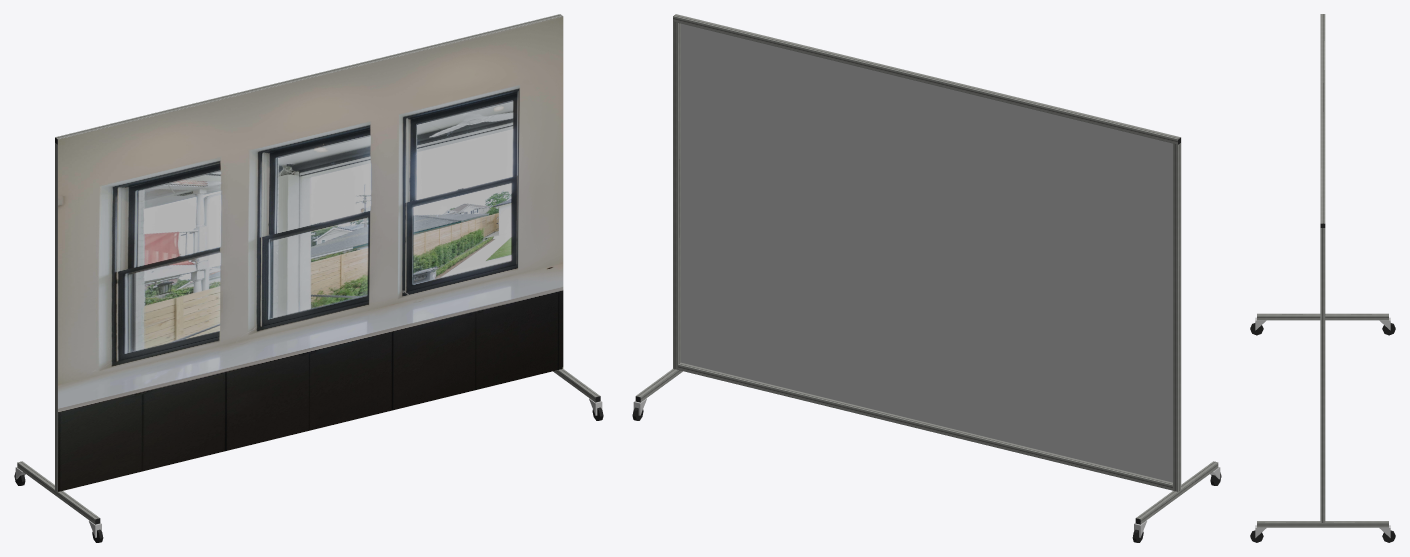
The model's file is textured_panel_3m.dae.
3 renders of one model, left to right at view 1: azimuth 30°, elevation 25°; view 2: azimuth 150°, elevation 25°; view 3: azimuth 270°, elevation 25°, orthographic. The views are drawn at different scales.
Parts seen in each view (by area): view 1: instance_0, instance_5; view 2: instance_0, instance_5; view 3: instance_5, instance_0.
Boxes of the visible parts, x1=… form: instance_0: x1=58, y1=16, x2=563, y2=491; instance_5: x1=17, y1=14, x2=599, y2=524; instance_0: x1=676, y1=14, x2=1181, y2=489; instance_5: x1=636, y1=14, x2=1218, y2=524; instance_5: x1=1257, y1=14, x2=1388, y2=527; instance_0: x1=1320, y1=14, x2=1320, y2=522.
Bounding box in the file's own units: 119 × 34.65 × 84.06.
